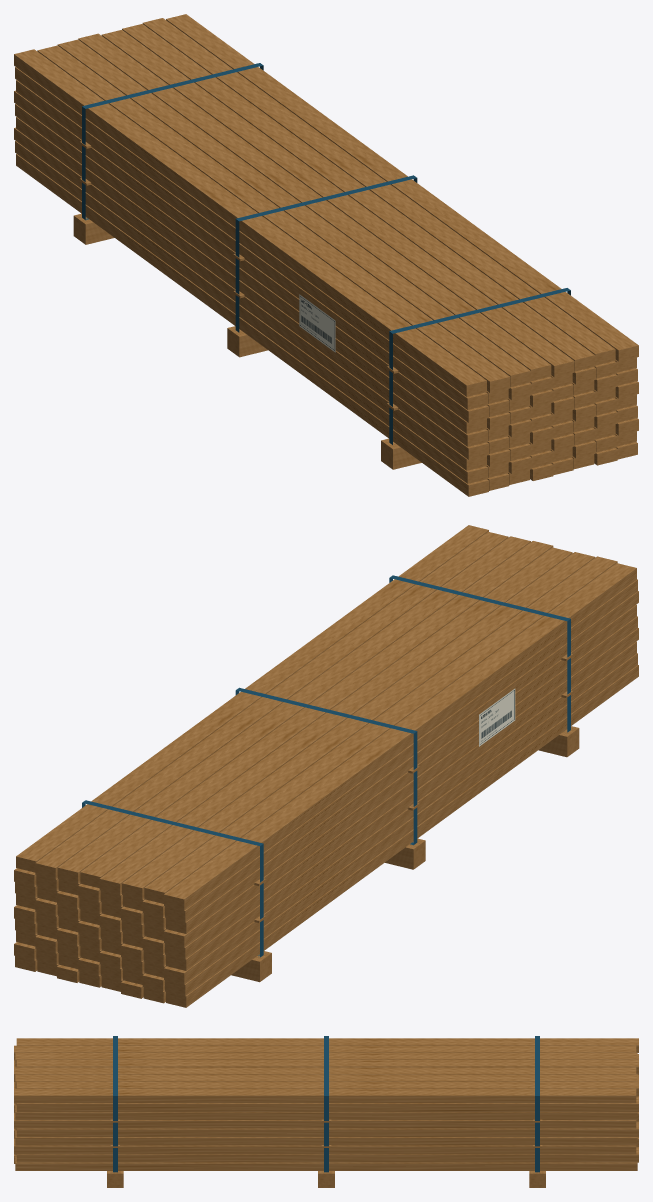
The model's file is timber_bundle.glb.
The picture shows the model from 3 angles, top to bottom: view 1: azimuth 30°, elevation 25°; view 2: azimuth 150°, elevation 25°; view 3: azimuth 270°, elevation 25°; orthographic projection. The views are drawn at different scales.
Visible parts, largest first — view 1: Pine dunnage, Blue polypropylene straps, Packing label; view 2: Pine dunnage, Blue polypropylene straps, Packing label; view 3: Pine dunnage, Blue polypropylene straps.
Boxes of the visible parts, x1=… form: Pine dunnage: x1=14, y1=14, x2=638, y2=496; Blue polypropylene straps: x1=82, y1=63, x2=570, y2=444; Packing label: x1=299, y1=294, x2=335, y2=352; Pine dunnage: x1=14, y1=525, x2=638, y2=1007; Blue polypropylene straps: x1=82, y1=575, x2=570, y2=957; Packing label: x1=479, y1=688, x2=515, y2=746; Pine dunnage: x1=14, y1=1038, x2=638, y2=1187; Blue polypropylene straps: x1=113, y1=1036, x2=539, y2=1172.
Size of the model in its own units: 1.33 by 0.9 by 5.62.
Materials: 3 (2 with a texture image).
